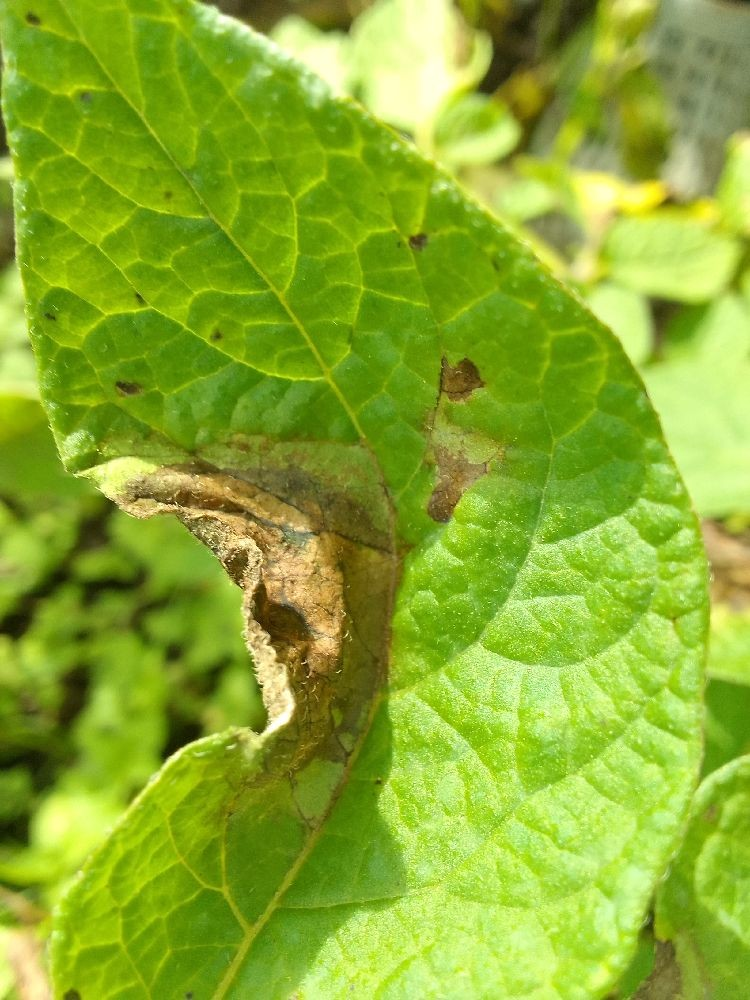late_blight: (105, 425, 507, 800), (436, 0, 619, 185), (0, 636, 117, 859), (691, 508, 750, 623)
